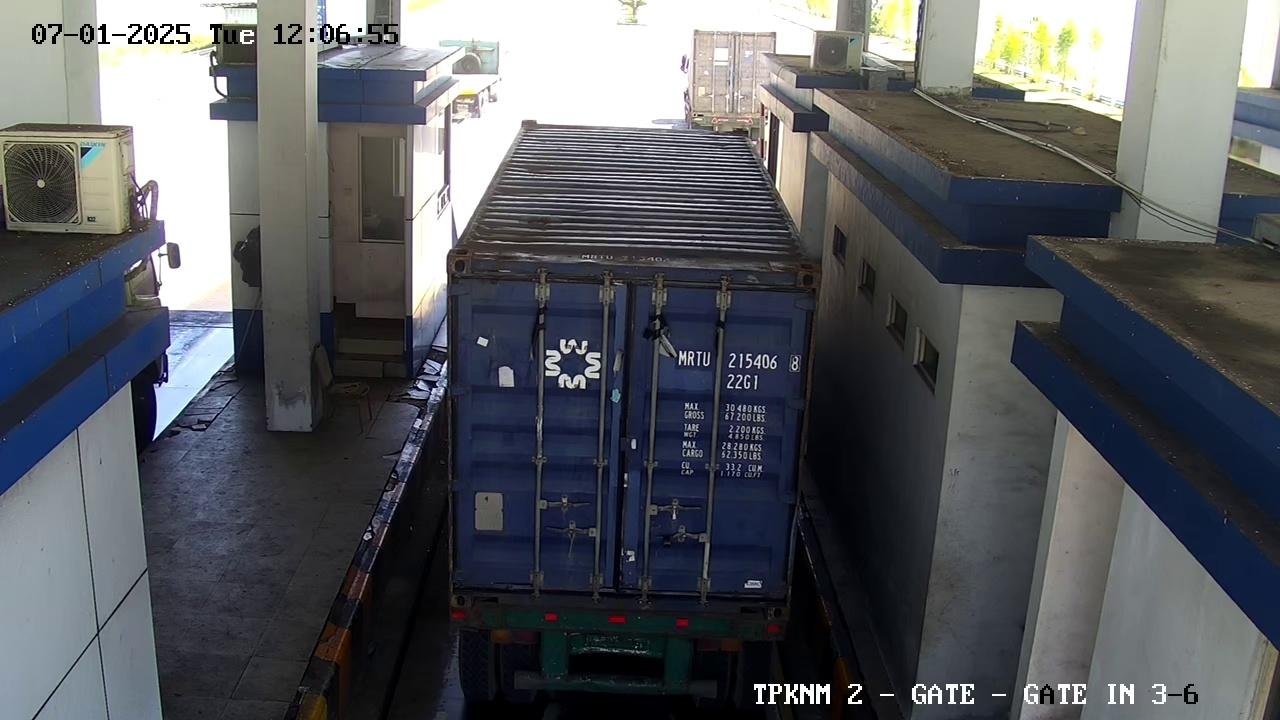Container_ID: (655, 339, 808, 403)
